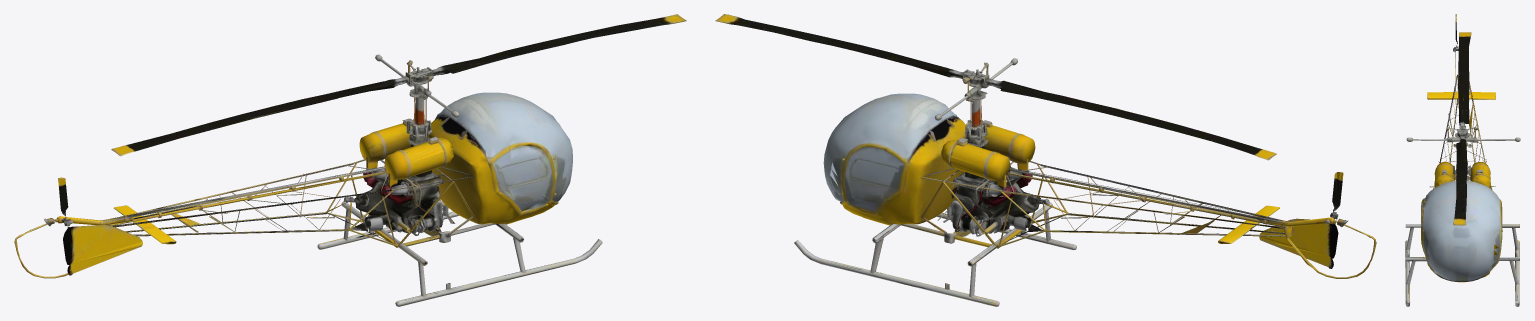
The model's file is bubble-helicopter.glb.
3 renders of one model, left to right at view 1: azimuth 30°, elevation 25°; view 2: azimuth 150°, elevation 25°; view 3: azimuth 270°, elevation 25°, orthographic. The views are drawn at different scales.
Visible parts, largest first — view 1: body, rotor-main; view 2: body, rotor-main, rotor-tail; view 3: body, rotor-main.
Part boxes in pixels (x1=…): body: x1=14, y1=92, x2=602, y2=306; rotor-main: x1=111, y1=14, x2=686, y2=156; body: x1=794, y1=93, x2=1376, y2=306; rotor-main: x1=715, y1=14, x2=1276, y2=160; rotor-tail: x1=1325, y1=172, x2=1348, y2=227; body: x1=1405, y1=52, x2=1519, y2=306; rotor-main: x1=1406, y1=32, x2=1520, y2=225.
Size of the model in its own units: 10.5 by 2.95 by 2.24.
1 material, 1 textured.
